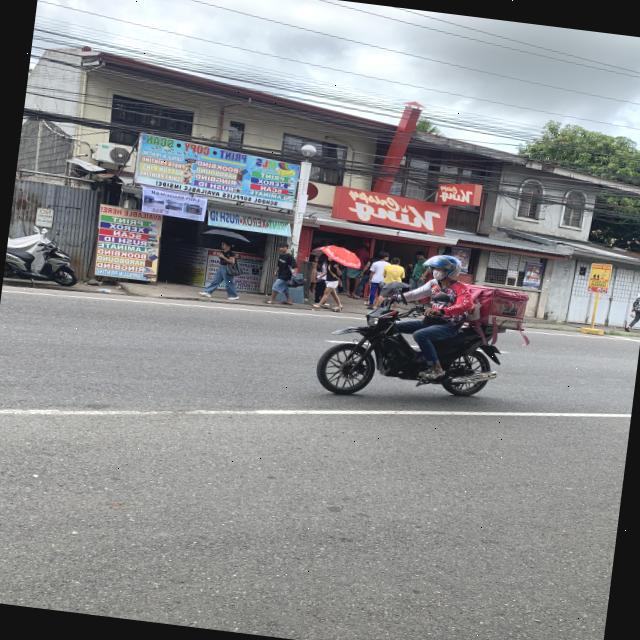motorcycle: (309, 298, 525, 418)
